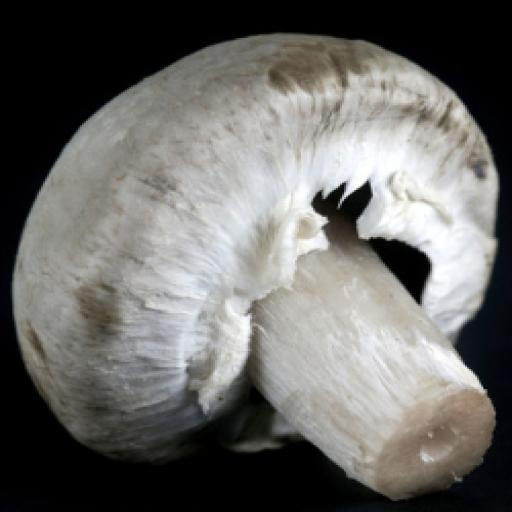Button Mushroom: (10, 34, 499, 502)
